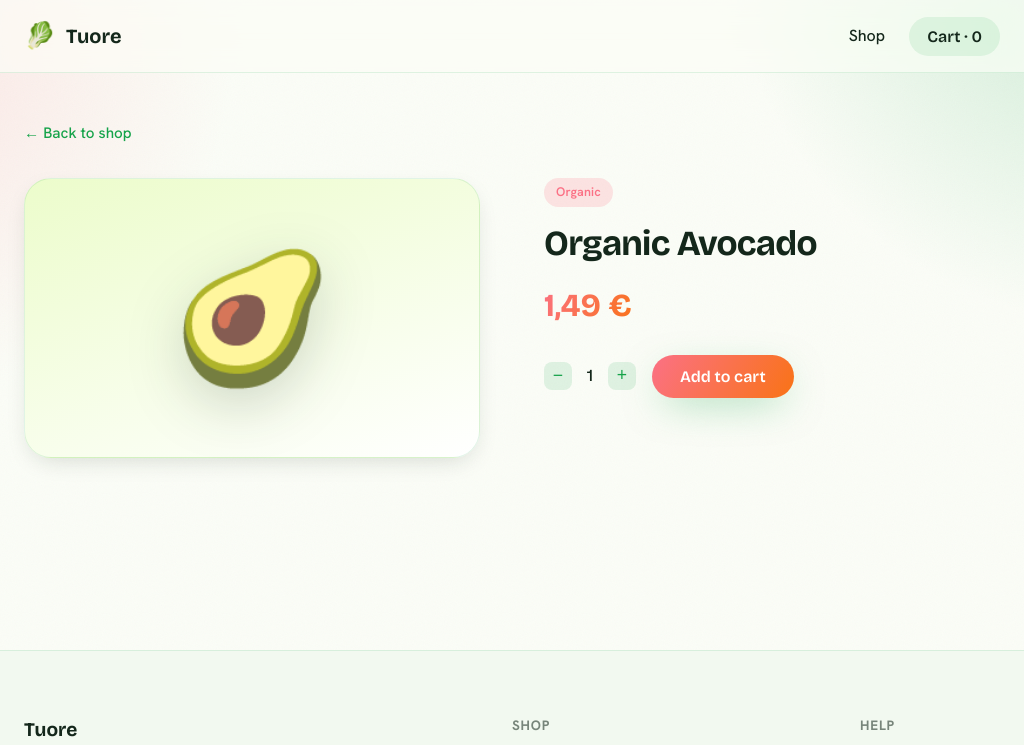
ProductDetail › adds to cart and shows 'Added ✓' confirmation
Click the button with aria-label "add organic avocado to cart" at (723, 376), box [652, 355, 794, 398]
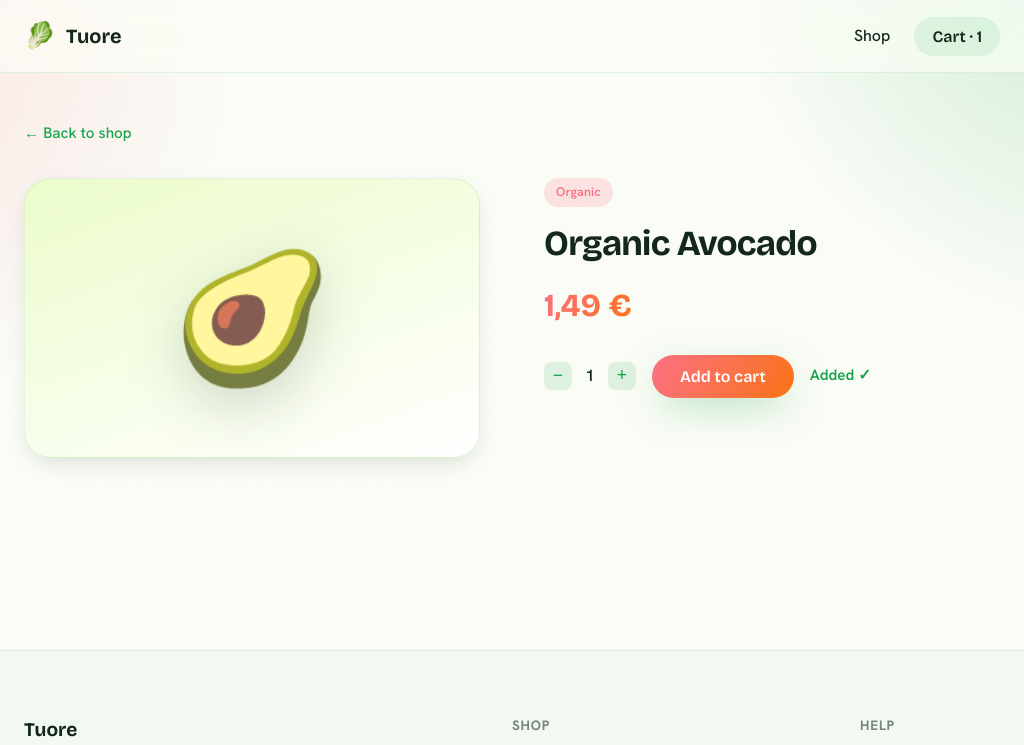
Check: the message reads "Added ✓", box [810, 366, 871, 386]
